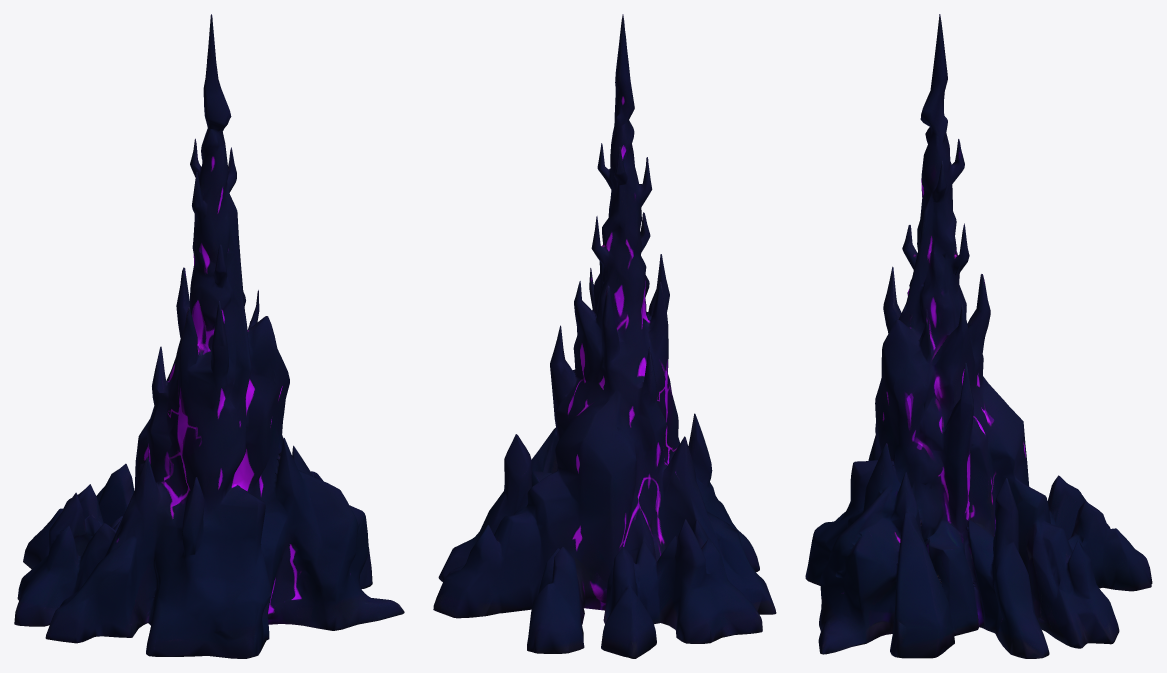
Rendered from act3_spire.glb.
3 renders of one model, left to right at view 1: azimuth 30°, elevation 25°; view 2: azimuth 150°, elevation 25°; view 3: azimuth 270°, elevation 25°, orthographic. The views are drawn at different scales.
Size of the model in its own units: 1.07 by 1.91 by 1.04.
1 material, 1 textured.
